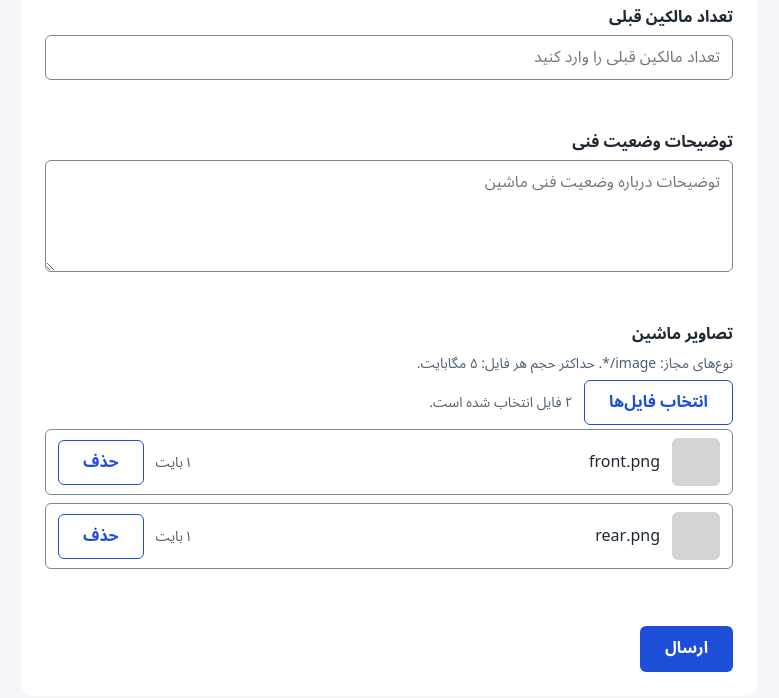
Scenario: App › loads the form from the brief, takes a submission with two images, and can edit or start over
The image size is (779, 698).
Earlier steps of the test are not shown.
(page scrolled)
Click the button "ارسال" at (686, 649), box x1=640 y1=626 x2=733 y2=672
(page scrolled)
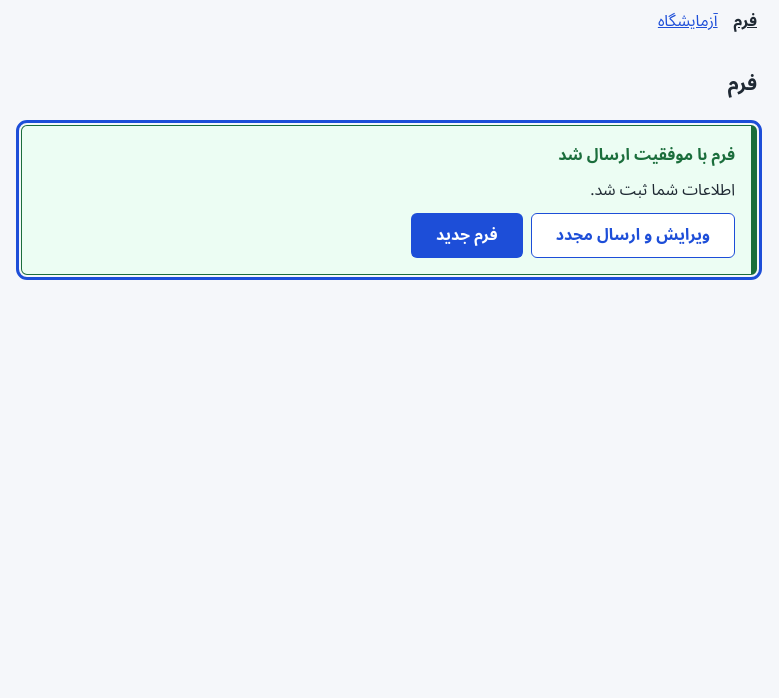
Check: the text "فرم با موفقیت ارسال شد" is shown, box x1=558 y1=138 x2=735 y2=172
Click the button "ویرایش و ارسال مجدد" at (633, 235), box x1=531 y1=213 x2=735 y2=258
(page scrolled)
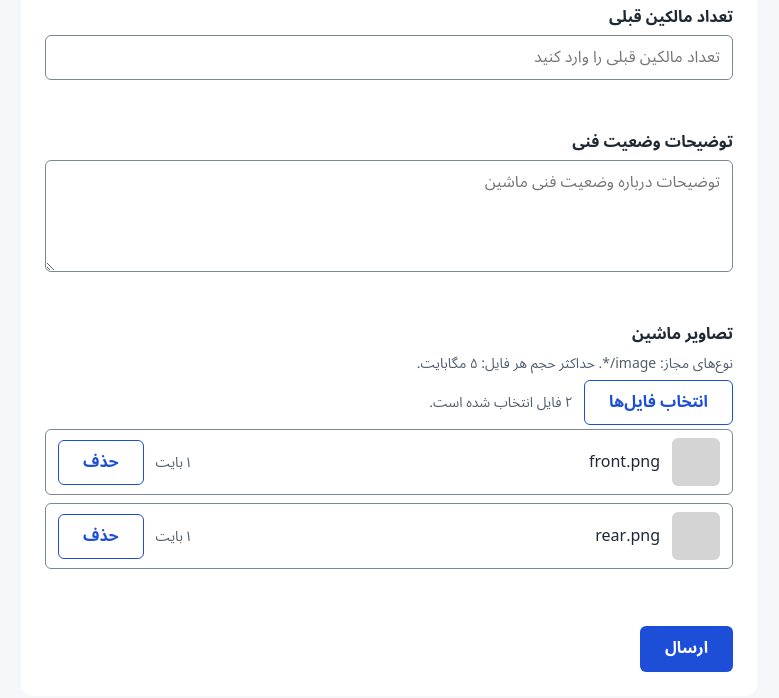
Check: the text "front.png" is shown, box x1=589 y1=445 x2=660 y2=479
Check: the text "rear.png" is shown, box x1=595 y1=519 x2=660 y2=553
Click the button "ارسال" at (686, 649), box x1=640 y1=626 x2=733 y2=672
(page scrolled)
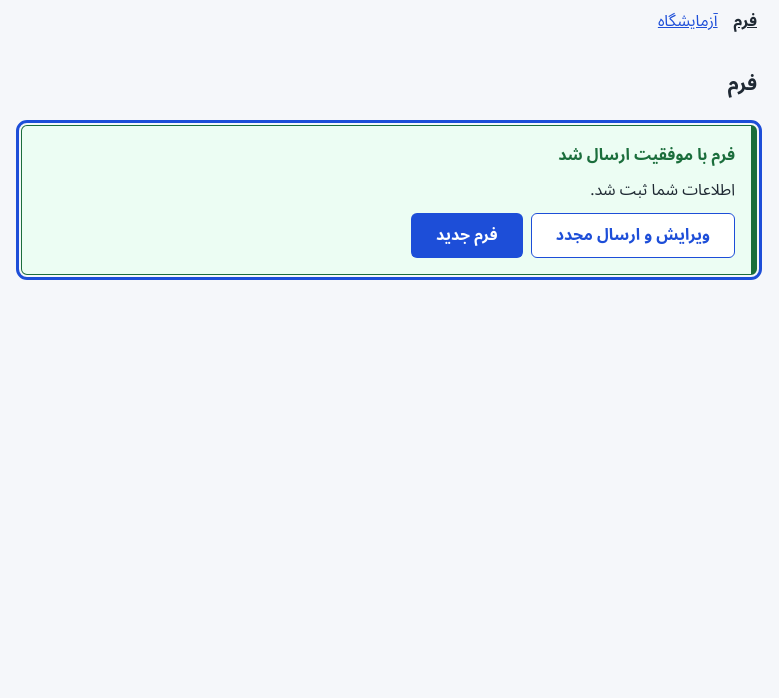
Click the button "فرم جدید" at (467, 235), box x1=411 y1=213 x2=523 y2=258
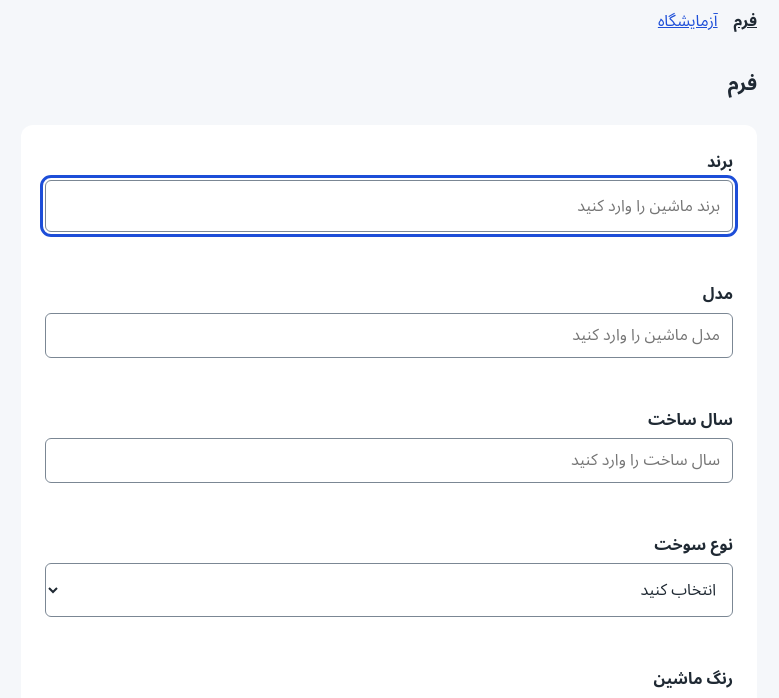
Check: the text "front.png" is not shown
Check: the field labelled "برند" is empty, box x1=45 y1=180 x2=733 y2=232
